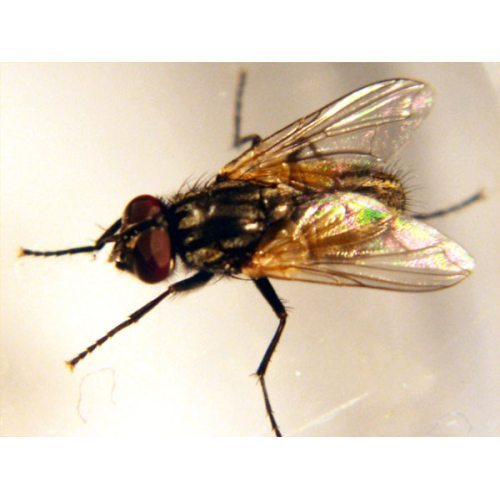house fly: (20, 59, 480, 441)
